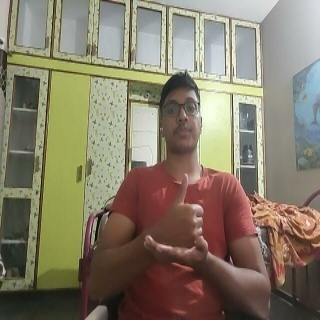Face: (156, 70, 204, 157)
Help: (142, 170, 213, 275)
